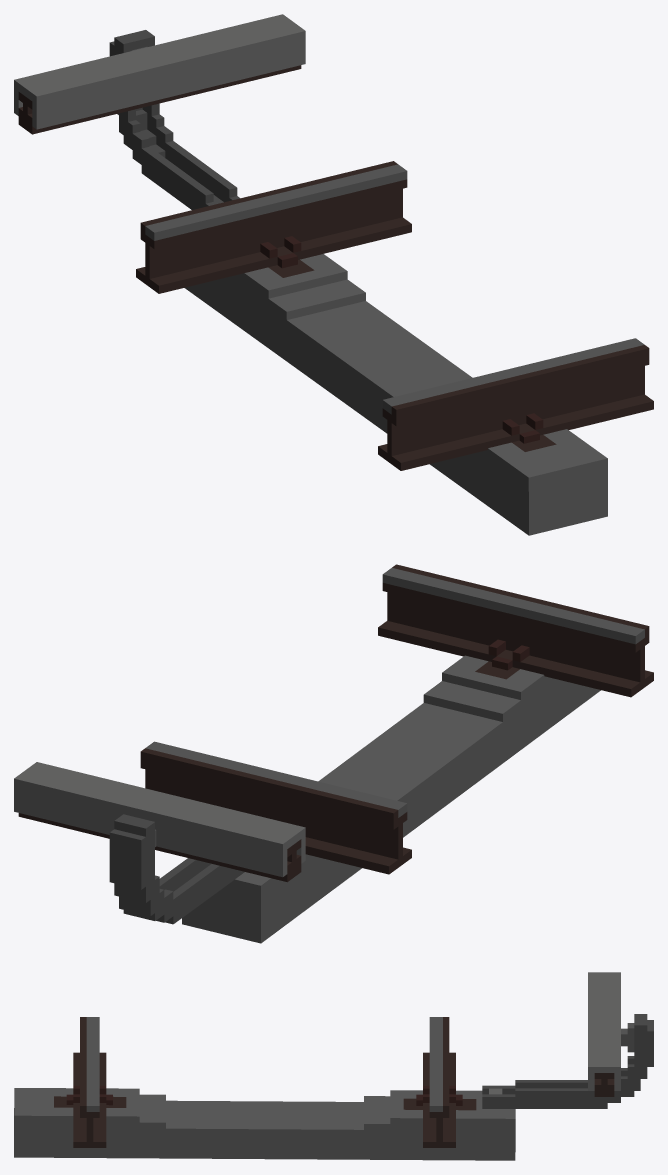
File: 3rdrail.obj
The picture shows the model from 3 angles, top to bottom: view 1: azimuth 30°, elevation 25°; view 2: azimuth 150°, elevation 25°; view 3: azimuth 270°, elevation 25°; orthographic projection. The views are drawn at different scales.
Parts seen in each view (by area): view 1: RAIL_BASE_1, RAIL_BASE_3, RAIL_RIGHT, RAIL_LEFT, RAIL_BASE_2; view 2: RAIL_BASE_1, RAIL_BASE_3, RAIL_LEFT, RAIL_RIGHT, RAIL_BASE_2; view 3: RAIL_BASE_1, RAIL_BASE_3, RAIL_LEFT, RAIL_RIGHT, RAIL_BASE_2.
Part boxes in pixels (x1,y1,x2,y2): RAIL_BASE_1: (184, 254, 607, 535); RAIL_BASE_3: (14, 14, 305, 209); RAIL_RIGHT: (136, 161, 411, 293); RAIL_LEFT: (378, 338, 653, 470); RAIL_BASE_2: (260, 236, 543, 443); RAIL_BASE_1: (182, 655, 600, 943); RAIL_BASE_3: (14, 762, 305, 924); RAIL_LEFT: (378, 564, 653, 697); RAIL_RIGHT: (140, 741, 411, 874); RAIL_BASE_2: (488, 639, 529, 670); RAIL_BASE_1: (14, 1088, 515, 1160); RAIL_BASE_3: (482, 972, 653, 1108); RAIL_LEFT: (73, 1017, 106, 1147); RAIL_RIGHT: (423, 1017, 455, 1147); RAIL_BASE_2: (66, 1085, 462, 1105).
Size of the model in its own units: 1.06 by 0.6645 by 3.03.
Materials: 1 (1 with a texture image).
